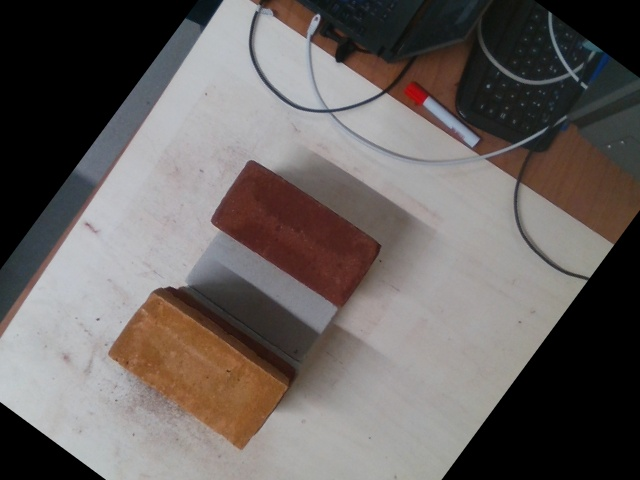brick: (109, 293, 287, 451), (210, 159, 381, 306), (183, 229, 338, 363)
